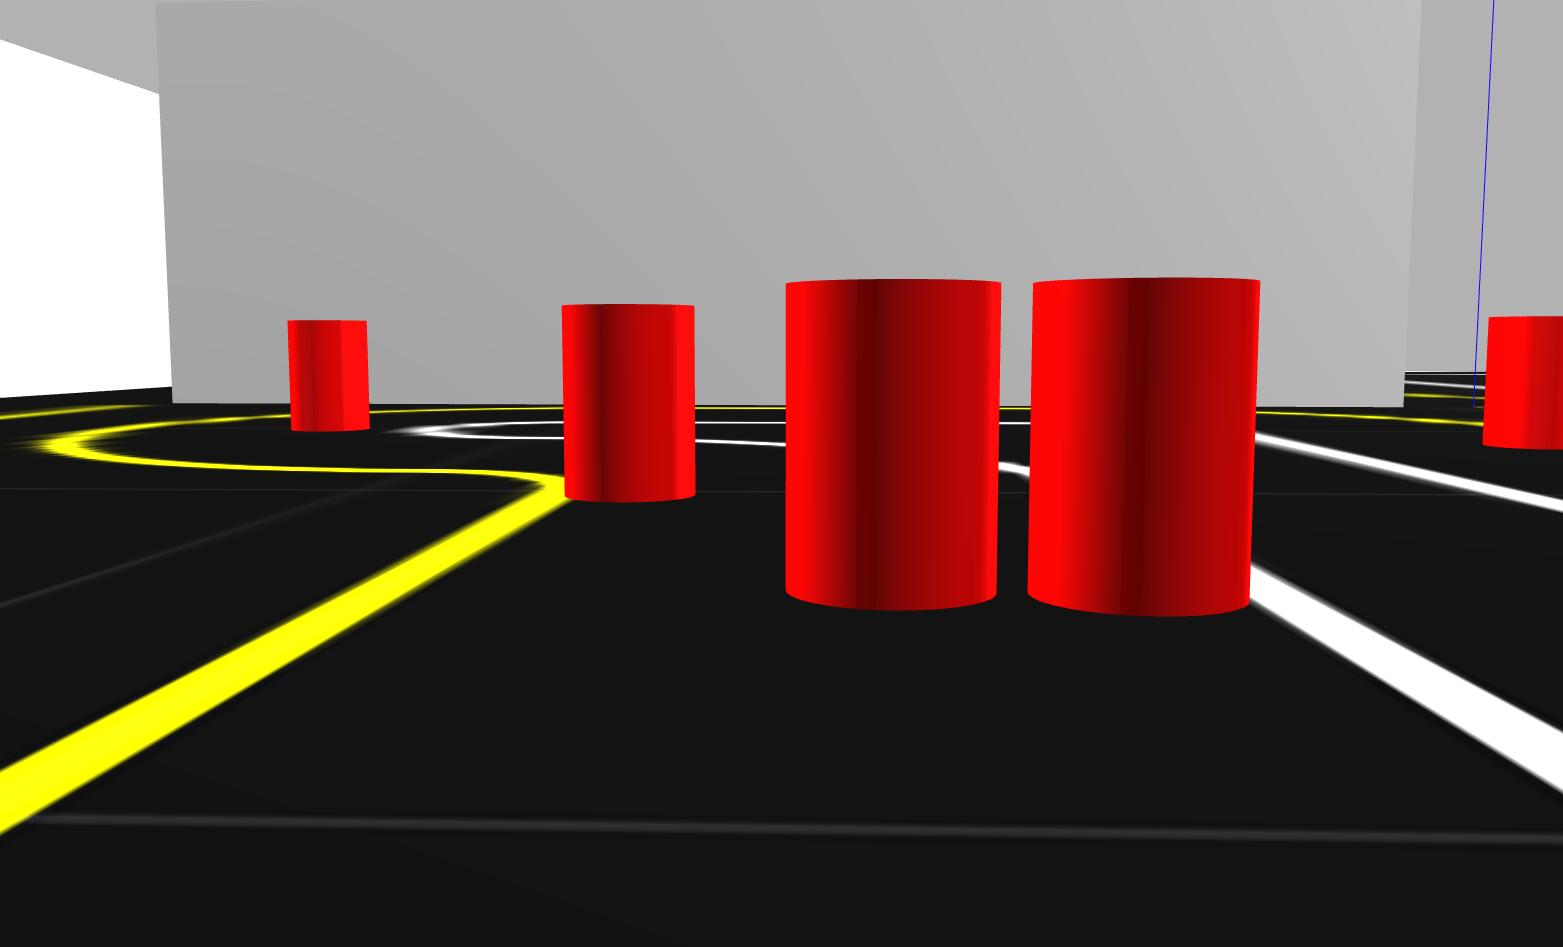obstacle: (1017, 277, 1260, 622), (773, 272, 1006, 618), (554, 296, 703, 501), (278, 312, 374, 439), (1484, 312, 1563, 455)
